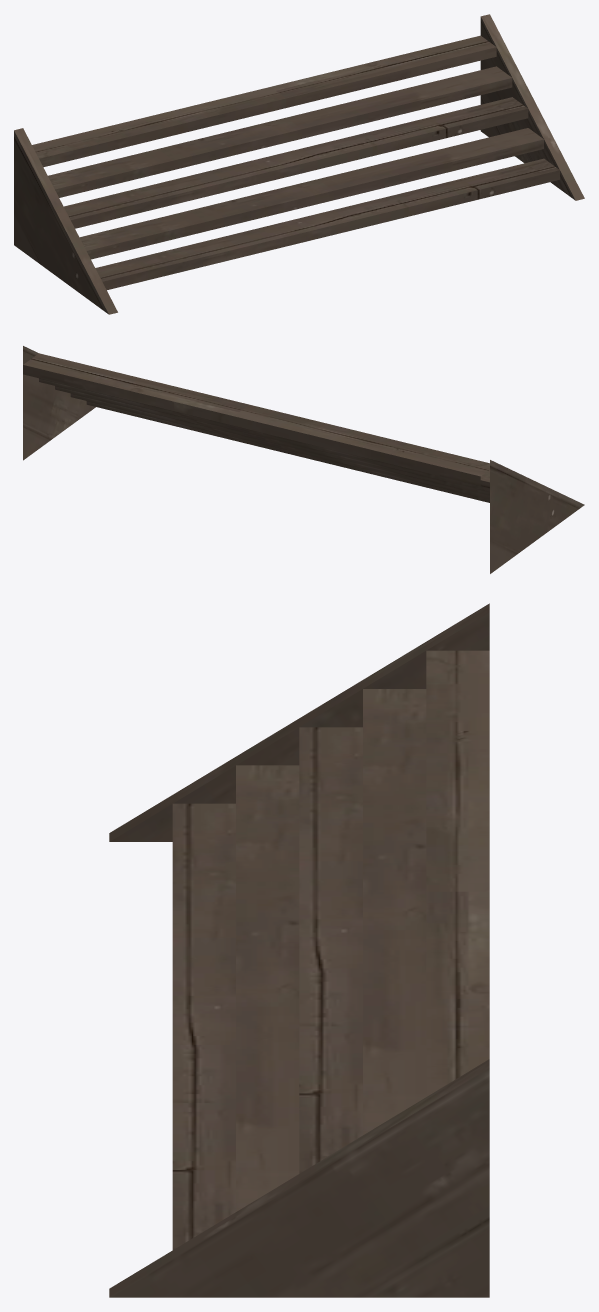
3 renders of one model, top to bottom at view 1: azimuth 30°, elevation 25°; view 2: azimuth 150°, elevation 25°; view 3: azimuth 270°, elevation 25°, orthographic. The views are drawn at different scales.
Parts seen in each view (by area): view 1: body0_model0_lod0_mesh0; view 2: body0_model0_lod0_mesh0; view 3: body0_model0_lod0_mesh0.
Part boxes in pixels (x1,y1,x2,y2): body0_model0_lod0_mesh0: [14, 14, 584, 314]; body0_model0_lod0_mesh0: [23, 346, 584, 573]; body0_model0_lod0_mesh0: [109, 603, 489, 1297].
Bounding box in the file's own units: 208 × 47.99 × 71.99.
1 material, 1 textured.
